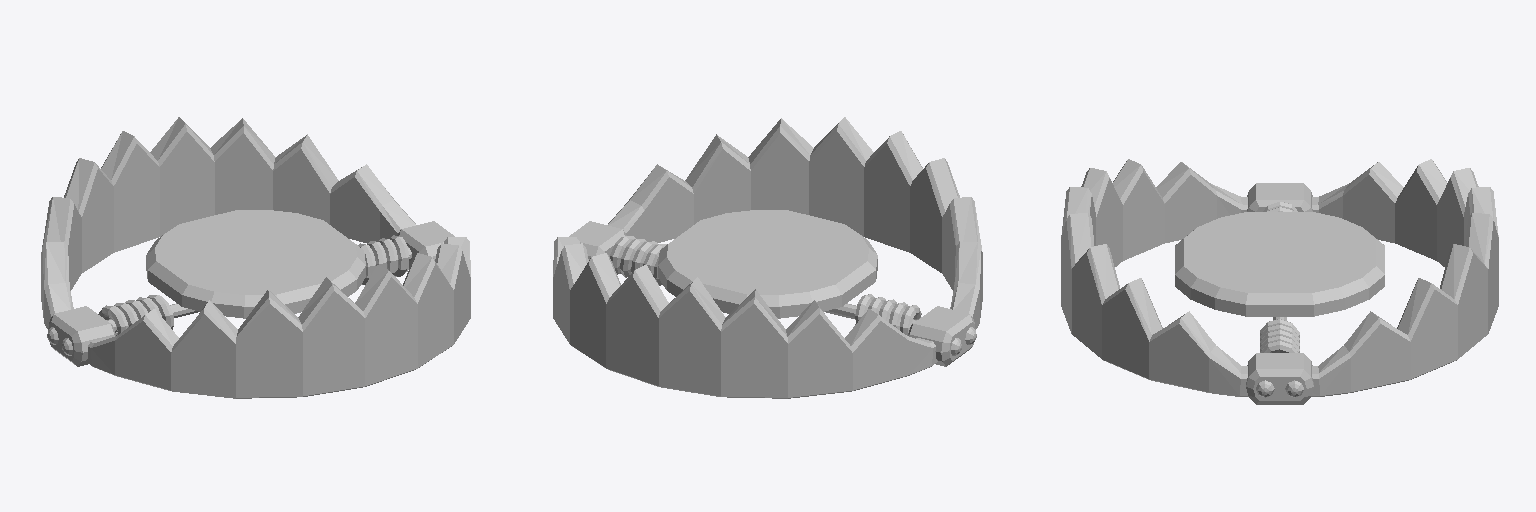
File: Beer_Trap.obj
3 views of the same model, side by side, from view 1: azimuth 30°, elevation 25°; view 2: azimuth 150°, elevation 25°; view 3: azimuth 270°, elevation 25° (orthographic).
Visible parts, largest first — view 1: Tooth Bear_Trap, Bear_Trap Pressure_Plate, Bear_Trap Connector, Bear_Trap Spring; view 2: Tooth Bear_Trap, Bear_Trap Pressure_Plate, Bear_Trap Connector, Bear_Trap Spring; view 3: Tooth Bear_Trap, Bear_Trap Pressure_Plate, Bear_Trap Connector, Bear_Trap Spring.
Boxes of the visible parts, x1,y1,x2,y2 form: Tooth Bear_Trap: [41, 117, 470, 398]; Bear_Trap Pressure_Plate: [146, 210, 365, 318]; Bear_Trap Connector: [48, 221, 454, 366]; Bear_Trap Spring: [98, 235, 409, 335]; Tooth Bear_Trap: [553, 117, 982, 398]; Bear_Trap Pressure_Plate: [658, 210, 877, 318]; Bear_Trap Connector: [569, 221, 975, 366]; Bear_Trap Spring: [610, 236, 921, 335]; Tooth Bear_Trap: [1061, 159, 1498, 396]; Bear_Trap Pressure_Plate: [1175, 212, 1384, 316]; Bear_Trap Connector: [1246, 183, 1313, 404]; Bear_Trap Spring: [1260, 202, 1299, 352].
Bounding box in the file's own units: 2.16 × 0.5739 × 2.04.